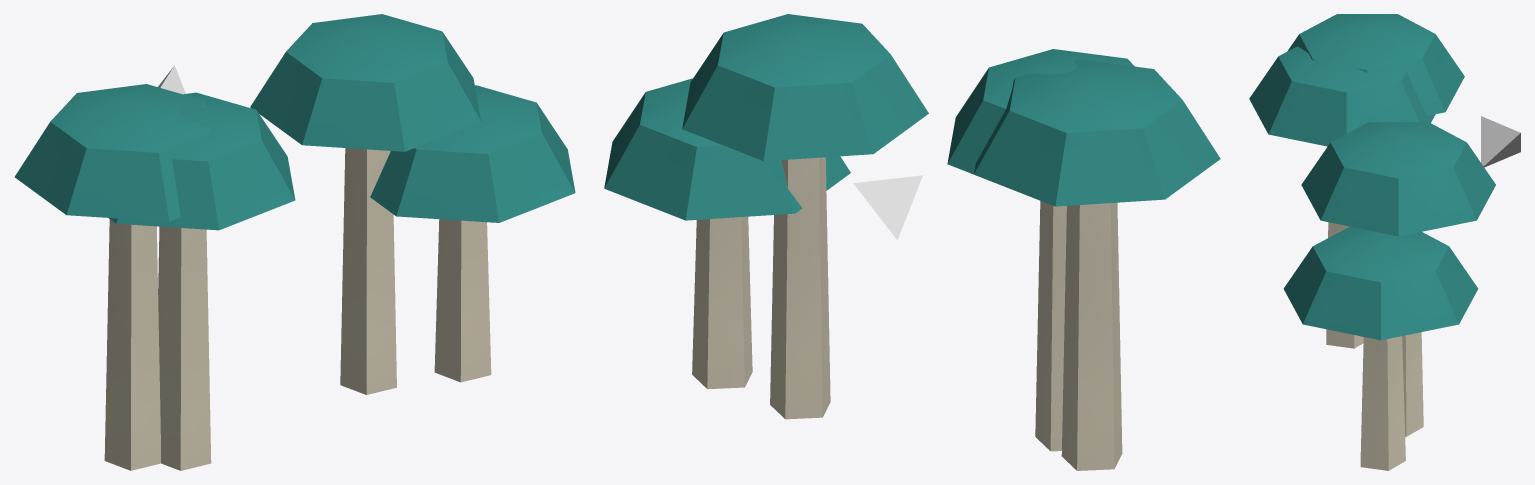
The model's file is SM_Mushrooms02_Glow.fbx.
3 renders of one model, left to right at view 1: azimuth 30°, elevation 25°; view 2: azimuth 150°, elevation 25°; view 3: azimuth 270°, elevation 25°, orthographic. The views are drawn at different scales.
Parts seen in each view (by area): view 1: SM_Mushrooms02_Glow; view 2: SM_Mushrooms02_Glow, Glow_Att; view 3: SM_Mushrooms02_Glow, Glow_Att.
Boxes of the visible parts, left/top/right/bottom form: SM_Mushrooms02_Glow: left=14, top=14, right=575, bottom=470; SM_Mushrooms02_Glow: left=604, top=14, right=1220, bottom=470; Glow_Att: left=853, top=175, right=922, bottom=239; SM_Mushrooms02_Glow: left=1249, top=14, right=1495, bottom=470; Glow_Att: left=1481, top=116, right=1520, bottom=167.
Bounding box in the file's own units: 1.03 × 0.6544 × 0.5437.
1 material, 1 textured.
